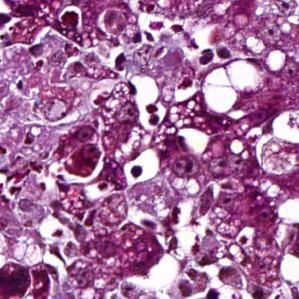ballooning: (199, 58, 268, 116)
